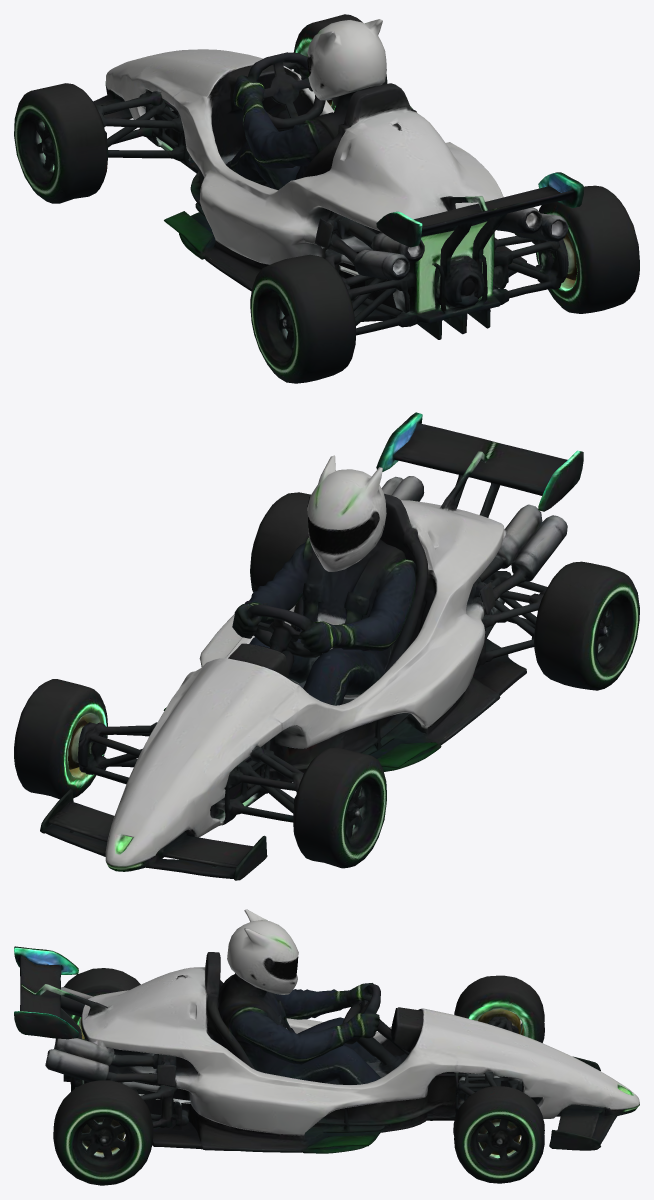
Rendered from kinetic-final.glb.
The picture shows the model from 3 angles, top to bottom: view 1: azimuth 30°, elevation 25°; view 2: azimuth 150°, elevation 25°; view 3: azimuth 270°, elevation 25°; orthographic projection. The views are drawn at different scales.
Visible parts, largest first — view 1: chassis, wheel-rl, wheel-fl, wheel-rr, wheel-fr; view 2: chassis, wheel-rl, wheel-fl, wheel-fr, wheel-rr; view 3: chassis, wheel-rr, wheel-fr, wheel-fl, wheel-rl.
Part boxes in pixels (x1=…): chassis: x1=93, y1=19, x2=584, y2=339; wheel-rl: x1=250, y1=254, x2=356, y2=383; wheel-fl: x1=14, y1=83, x2=108, y2=203; wheel-rr: x1=536, y1=185, x2=639, y2=313; wheel-fr: x1=293, y1=14, x2=387, y2=110; chassis: x1=40, y1=412, x2=583, y2=880; wheel-rl: x1=534, y1=561, x2=639, y2=690; wheel-fl: x1=293, y1=748, x2=386, y2=868; wheel-fr: x1=14, y1=679, x2=107, y2=799; wheel-rr: x1=250, y1=492, x2=310, y2=592; chassis: x1=14, y1=909, x2=639, y2=1153; wheel-rr: x1=53, y1=1080, x2=153, y2=1185; wheel-fr: x1=453, y1=1086, x2=544, y2=1183; wheel-fl: x1=454, y1=975, x2=544, y2=1042; wheel-rl: x1=55, y1=968, x2=140, y2=1039.
Bounding box in the file's own units: 2.29 × 1.62 × 4.5.
Materials: 1 (1 with a texture image).
